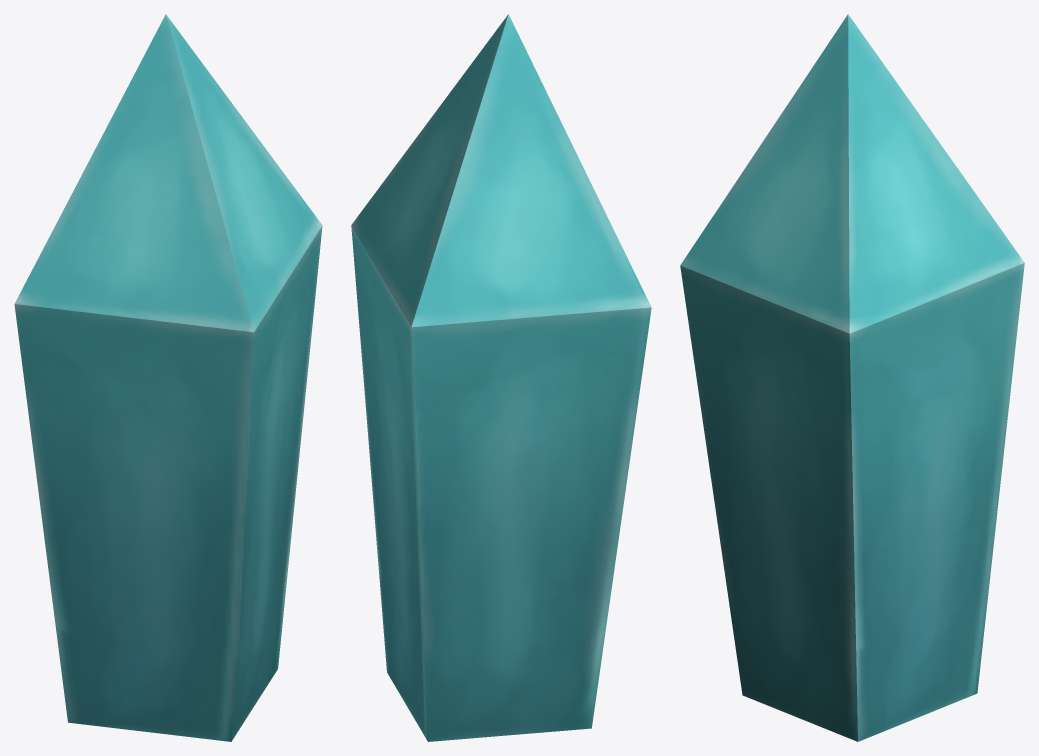
File: crystal_02.fbx
3 renders of one model, left to right at view 1: azimuth 30°, elevation 25°; view 2: azimuth 150°, elevation 25°; view 3: azimuth 270°, elevation 25°, orthographic. The views are drawn at different scales.
Visible parts, largest first — view 1: crystal_02Mesh; view 2: crystal_02Mesh; view 3: crystal_02Mesh.
Part boxes in pixels (bbox=[...]): crystal_02Mesh: bbox=[14, 14, 322, 741]; crystal_02Mesh: bbox=[351, 14, 651, 741]; crystal_02Mesh: bbox=[680, 14, 1024, 741].
Size of the model in its own units: 0.2445 by 0.5295 by 0.2445.
Materials: 1 (1 with a texture image).
